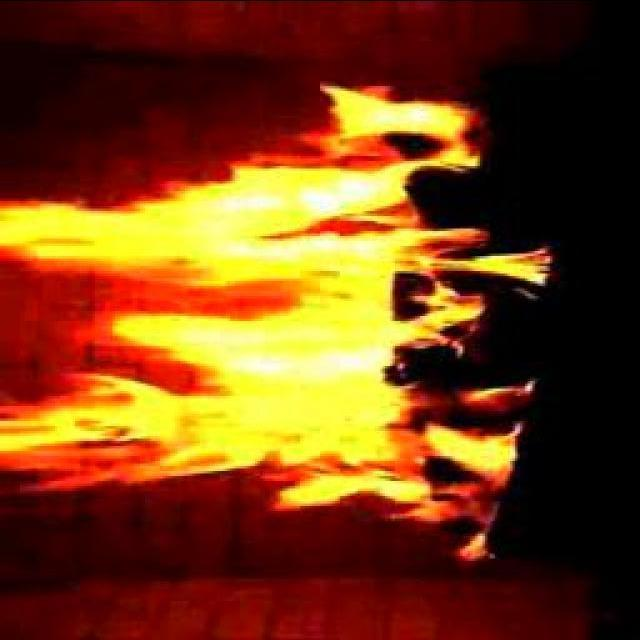Fire: (42, 105, 480, 488)
